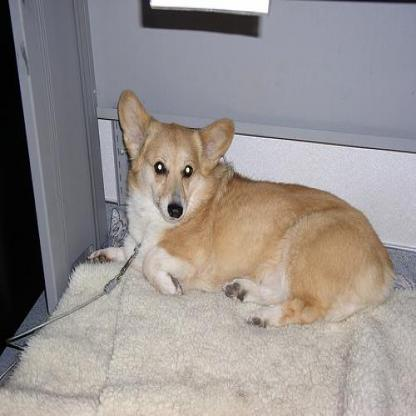Pembroke: (86, 88, 394, 328)
